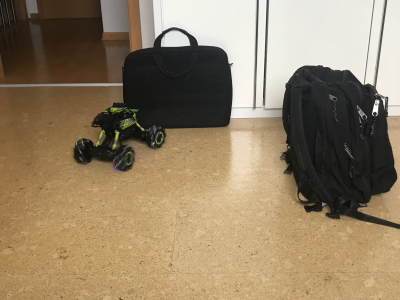remote control car: (70, 100, 166, 173)
